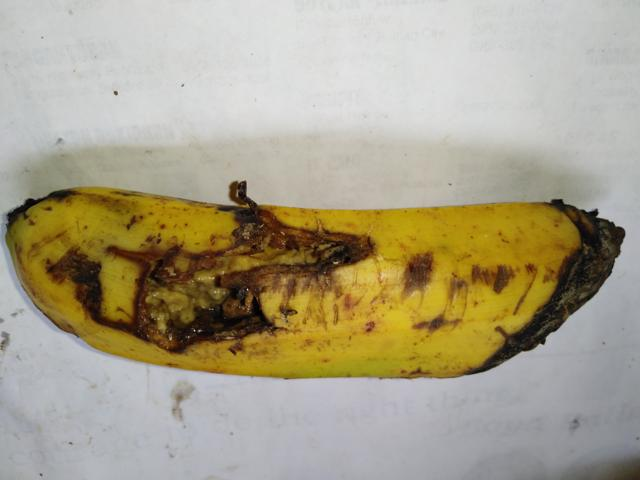rotten: (57, 178, 379, 400), (446, 157, 639, 416)
